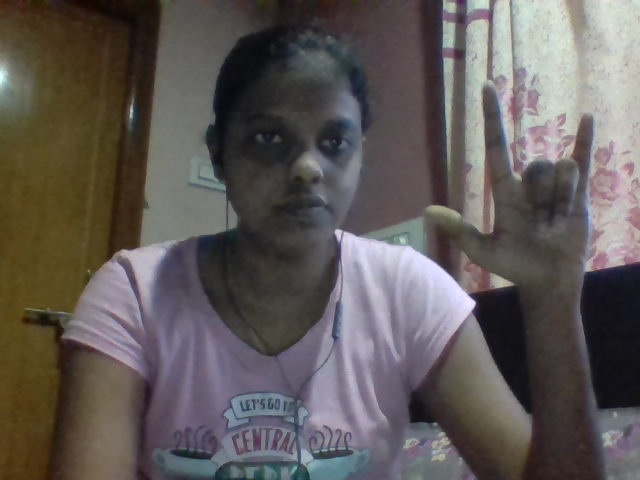I Love You: (385, 65, 625, 335)
